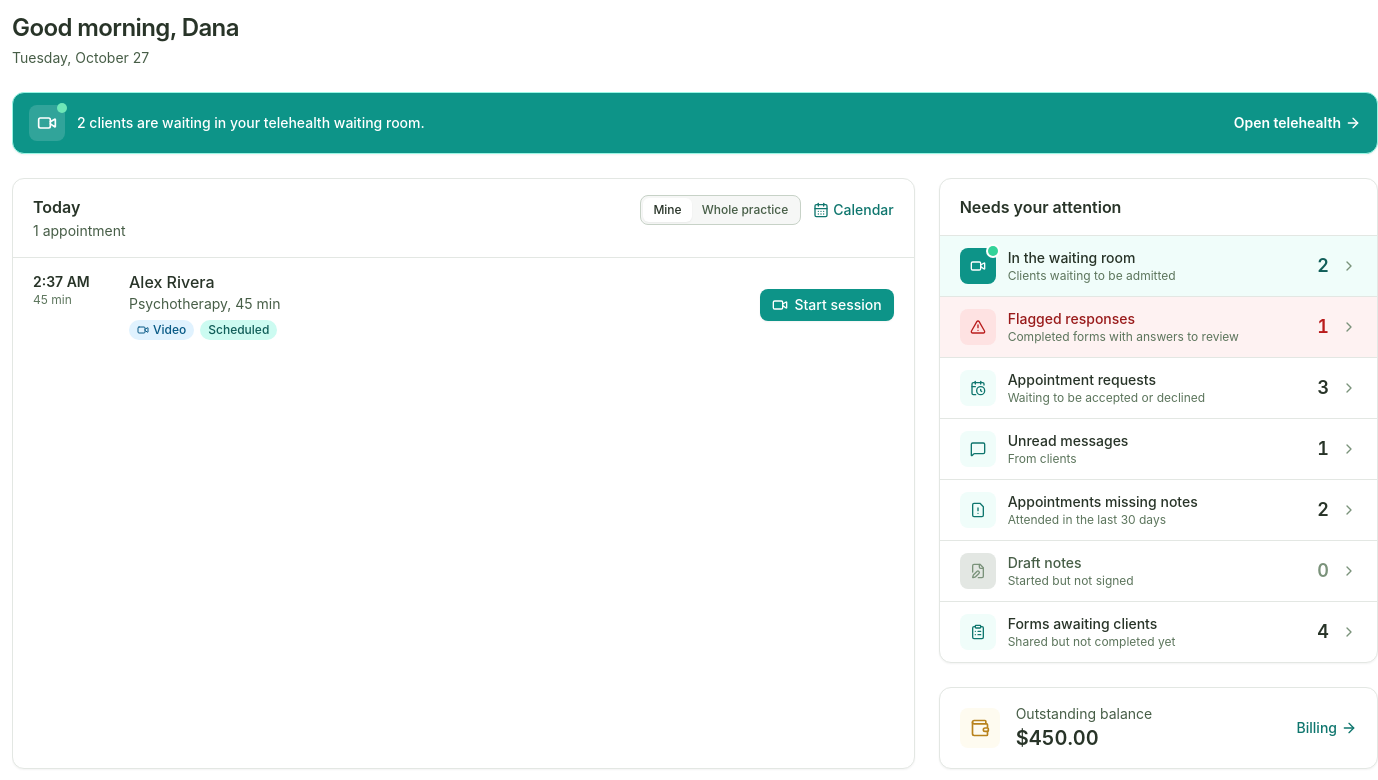
DashboardPage › switches staff who manage every calendar to the whole practice
Click the button "Whole practice". click: (745, 210)
box: [692,198,798,222]
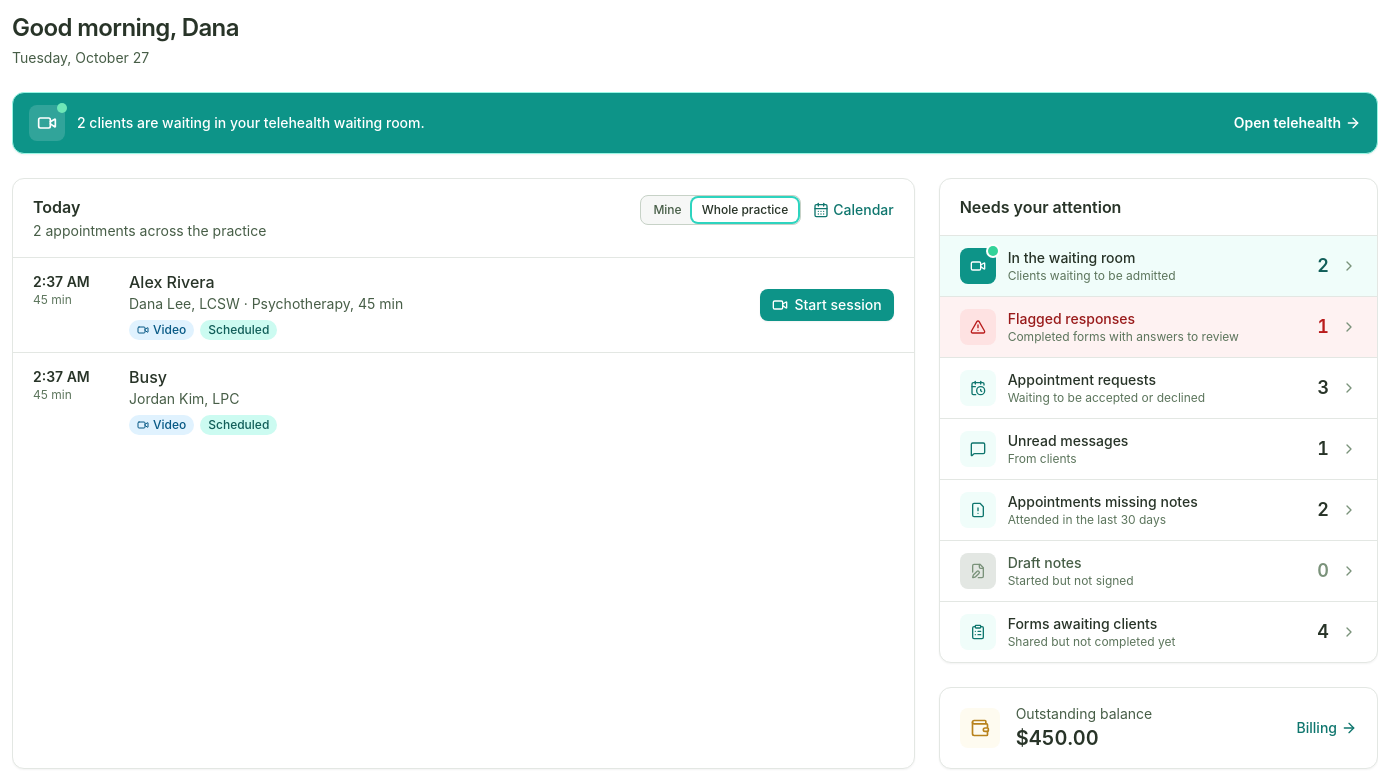
Result: the text "Busy" is shown at [129,367,167,387]
Result: the text "Jordan Kim, LPC" is shown at [129,390,239,407]
Result: the text "Dana Lee, LCSW · Psychotherapy, 45 min" is shown at [129,295,403,312]
